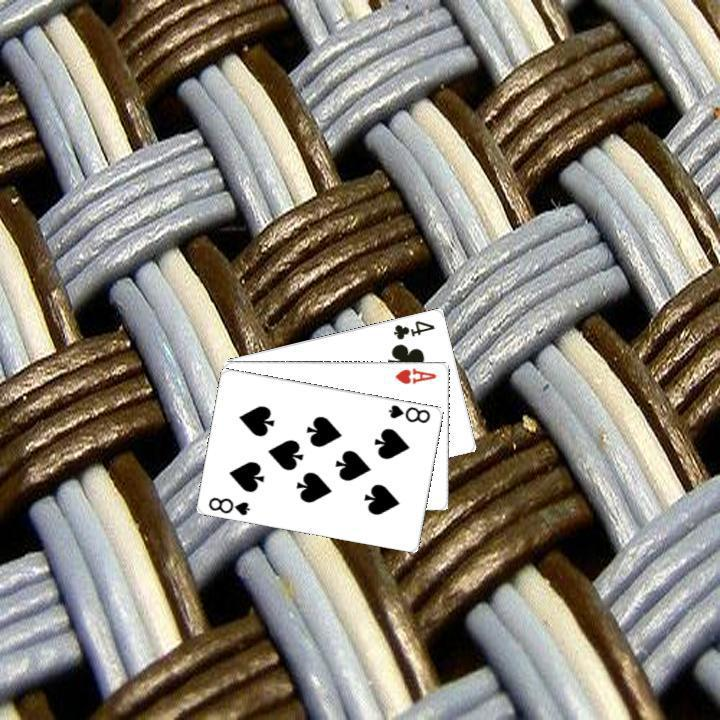4: (389, 316, 437, 341)
8: (384, 400, 433, 425), (204, 492, 252, 517)
A: (391, 364, 438, 386)
